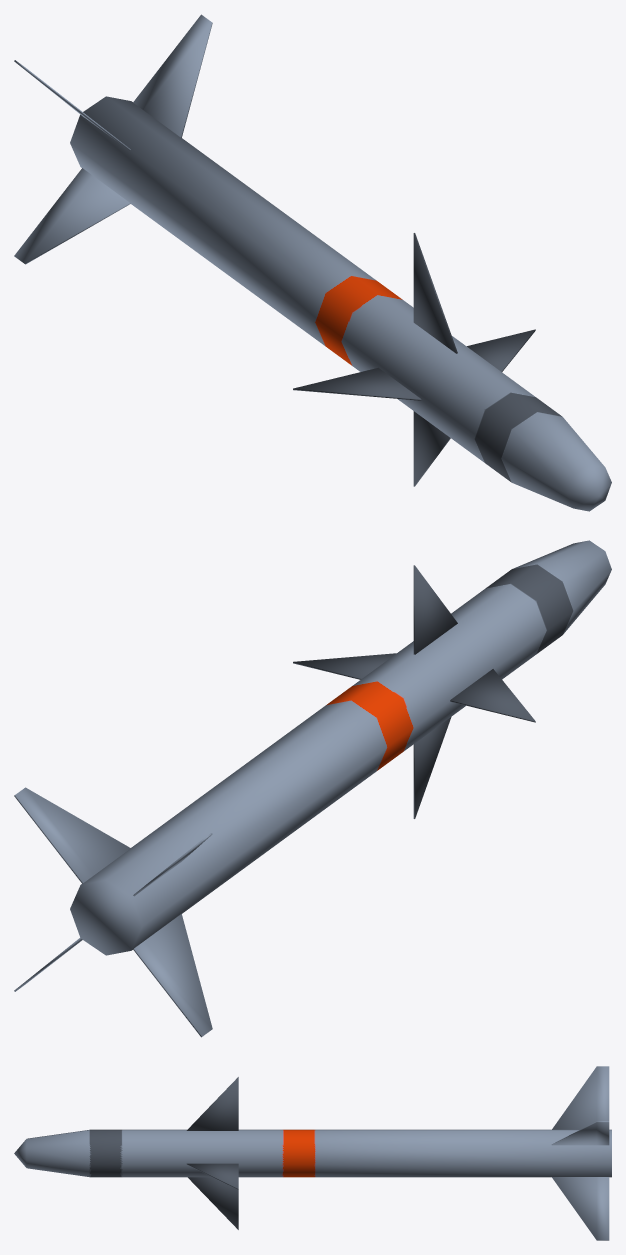
File: aim7.gltf
The picture shows the model from 3 angles, top to bottom: view 1: azimuth 30°, elevation 25°; view 2: azimuth 150°, elevation 25°; view 3: azimuth 270°, elevation 25°; orthographic projection. The views are drawn at different scales.
Visible parts, largest first — view 1: Circle; view 2: Circle; view 3: Circle.
Boxes of the visible parts, x1,y1,x2,y2 form: Circle: [14, 14, 611, 511]; Circle: [14, 540, 611, 1037]; Circle: [14, 1066, 611, 1240].
Bounding box in the file's own units: 1.34 × 1.34 × 4.73.
1 material, 1 textured.
